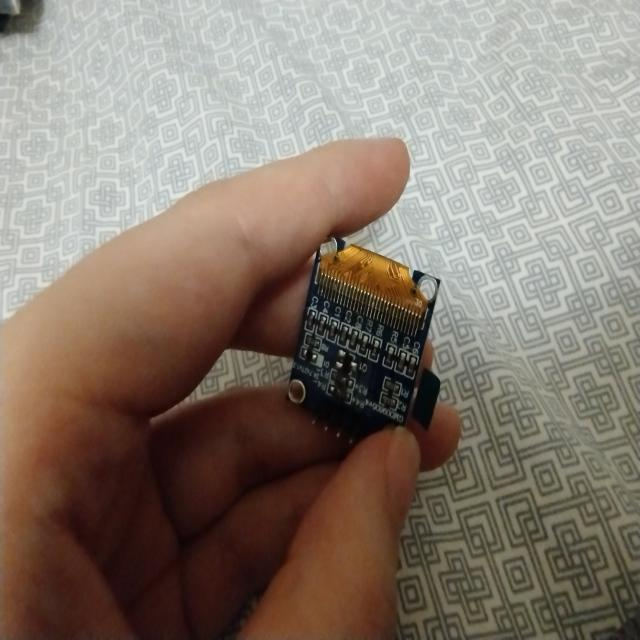oled: (284, 214, 443, 456)
